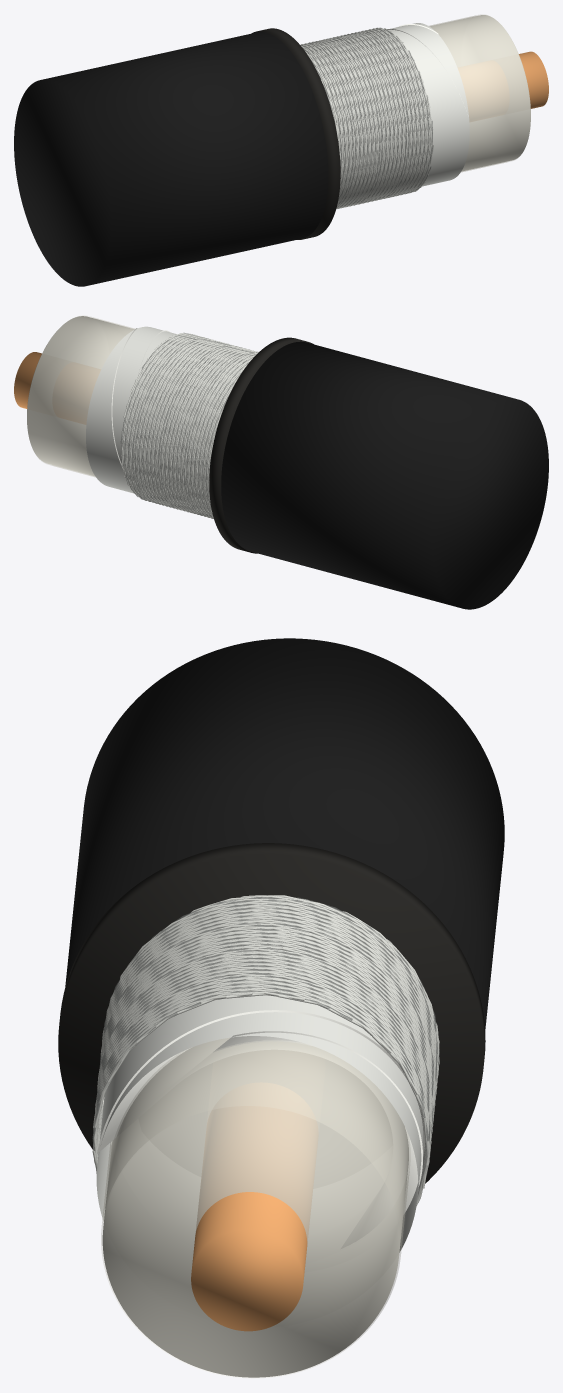
File: rf-lmr400.glb
The picture shows the model from 3 angles, top to bottom: view 1: azimuth 30°, elevation 25°; view 2: azimuth 150°, elevation 25°; view 3: azimuth 270°, elevation 25°; orthographic projection. The views are drawn at different scales.
Visible parts, largest first — view 1: matte black pvc jacket body, smooth dielectric skin, gas injected foam dielectric, duobond foil sleeve, jacket cut lip, braid left hand carrier 14, braid left hand carrier 11, braid left hand carrier 12, braid left hand carrier 15, braid left hand carrier 17, braid left hand carrier 09, braid left hand carrier 08 (+34 smaller); view 2: matte black pvc jacket body, smooth dielectric skin, gas injected foam dielectric, duobond foil sleeve, jacket cut lip, braid left hand carrier 08, braid left hand carrier 05, braid left hand carrier 06, braid left hand carrier 09, braid left hand carrier 11, braid left hand carrier 03, braid left hand carrier 02 (+34 smaller); view 3: matte black pvc jacket body, gas injected foam dielectric, jacket cut lip, solid center conductor continuous, smooth dielectric skin, duobond foil sleeve, subtle foil wrap lap, braid left hand carrier 09, braid left hand carrier 20, braid left hand carrier 06, braid left hand carrier 03, braid left hand carrier 18 (+15 smaller).
Boxes of the visible parts, left/top/right/bottom form: matte black pvc jacket body: left=14, top=32, right=328, bottom=286; smooth dielectric skin: left=429, top=14, right=530, bottom=172; gas injected foam dielectric: left=430, top=15, right=530, bottom=171; duobond foil sleeve: left=329, top=23, right=469, bottom=186; jacket cut lip: left=251, top=28, right=340, bottom=239; braid left hand carrier 14: left=300, top=28, right=426, bottom=207; braid left hand carrier 11: left=302, top=28, right=422, bottom=208; braid left hand carrier 12: left=301, top=27, right=423, bottom=206; braid left hand carrier 15: left=300, top=33, right=427, bottom=205; braid left hand carrier 17: left=301, top=32, right=430, bottom=206; braid left hand carrier 09: left=305, top=28, right=419, bottom=207; braid left hand carrier 08: left=307, top=29, right=418, bottom=209; matte black pvc jacket body: left=221, top=341, right=548, bottom=609; smooth dielectric skin: left=27, top=315, right=134, bottom=477; gas injected foam dielectric: left=27, top=316, right=134, bottom=476; duobond foil sleeve: left=86, top=326, right=224, bottom=493; jacket cut lip: left=209, top=337, right=313, bottom=553; braid left hand carrier 08: left=122, top=336, right=249, bottom=516; braid left hand carrier 05: left=126, top=337, right=252, bottom=513; braid left hand carrier 06: left=125, top=336, right=253, bottom=514; braid left hand carrier 09: left=121, top=335, right=248, bottom=517; braid left hand carrier 11: left=123, top=334, right=251, bottom=518; braid left hand carrier 03: left=129, top=337, right=257, bottom=515; braid left hand carrier 02: left=130, top=337, right=257, bottom=514; matte black pvc jacket body: left=65, top=638, right=504, bottom=1029; gas injected foam dielectric: left=102, top=1037, right=408, bottom=1377; jacket cut lip: left=58, top=843, right=485, bottom=1183; solid center conductor continuous: left=191, top=1106, right=318, bottom=1331; smooth dielectric skin: left=101, top=1038, right=410, bottom=1378; duobond foil sleeve: left=96, top=995, right=423, bottom=1252; subtle foil wrap lap: left=97, top=1010, right=425, bottom=1248; braid left hand carrier 09: left=94, top=909, right=437, bottom=1188; braid left hand carrier 20: left=92, top=898, right=438, bottom=1169; braid left hand carrier 06: left=94, top=906, right=438, bottom=1148; braid left hand carrier 03: left=97, top=902, right=438, bottom=1143; braid left hand carrier 18: left=93, top=895, right=438, bottom=1163.
Size of the model in its own units: 6.56 by 2.6 by 2.72.
